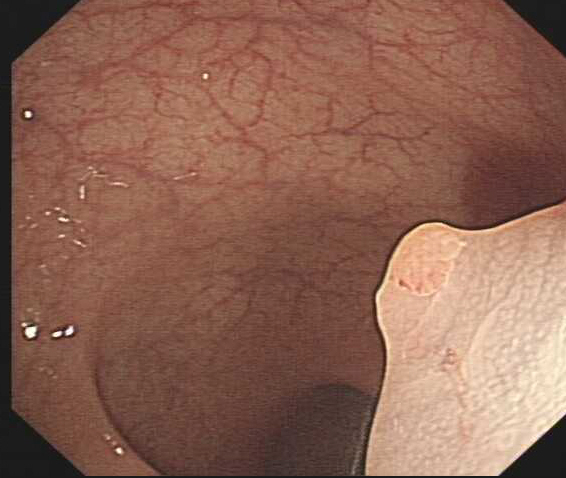others: (371, 217, 470, 344)
